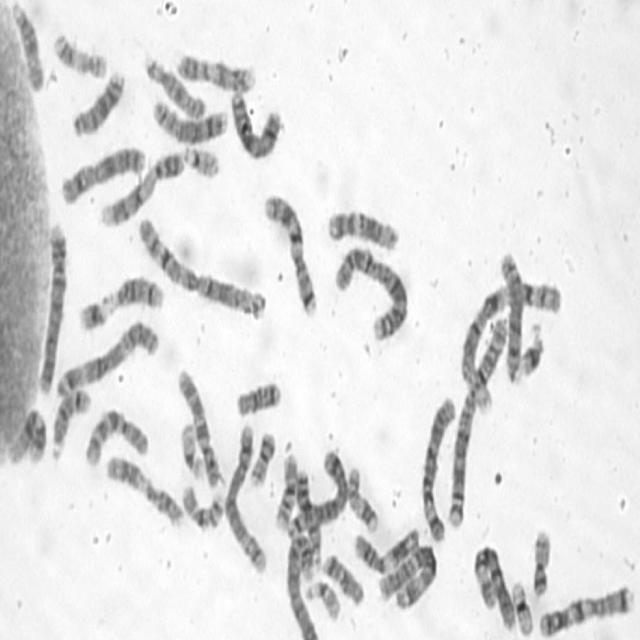A1: (457, 271, 563, 414), (136, 213, 267, 322)
A2: (446, 310, 509, 530), (330, 241, 410, 343)
A3: (54, 315, 162, 399), (376, 536, 438, 614)
B4: (35, 219, 68, 397), (284, 529, 320, 639)
B5: (223, 419, 269, 575), (284, 444, 349, 539)
C10: (175, 364, 221, 491), (82, 404, 149, 468)
C11: (103, 452, 185, 530), (351, 524, 420, 574)
C12: (325, 204, 400, 253), (6, 402, 47, 468)
C6: (418, 392, 458, 544), (470, 539, 517, 634)
C7: (262, 189, 320, 320), (536, 580, 636, 638)
C8: (150, 96, 229, 146), (498, 247, 524, 384)
C9: (97, 148, 185, 228), (174, 49, 258, 94)
D13: (69, 66, 127, 138), (294, 469, 322, 572)
D14: (48, 384, 92, 463), (102, 271, 166, 314)
D15: (143, 55, 210, 123), (10, 0, 44, 92)
E16: (272, 449, 299, 532), (180, 483, 224, 533)
E17: (50, 30, 110, 81), (345, 463, 381, 534)
E18: (320, 549, 366, 609), (234, 377, 282, 420)
F19: (178, 419, 205, 482), (510, 576, 535, 639)
F20: (248, 430, 278, 488), (530, 525, 552, 598)
G21: (77, 290, 112, 333), (518, 326, 546, 379)
G22: (303, 576, 342, 624), (180, 141, 221, 181)
X: (59, 140, 147, 207), (228, 85, 284, 162)
